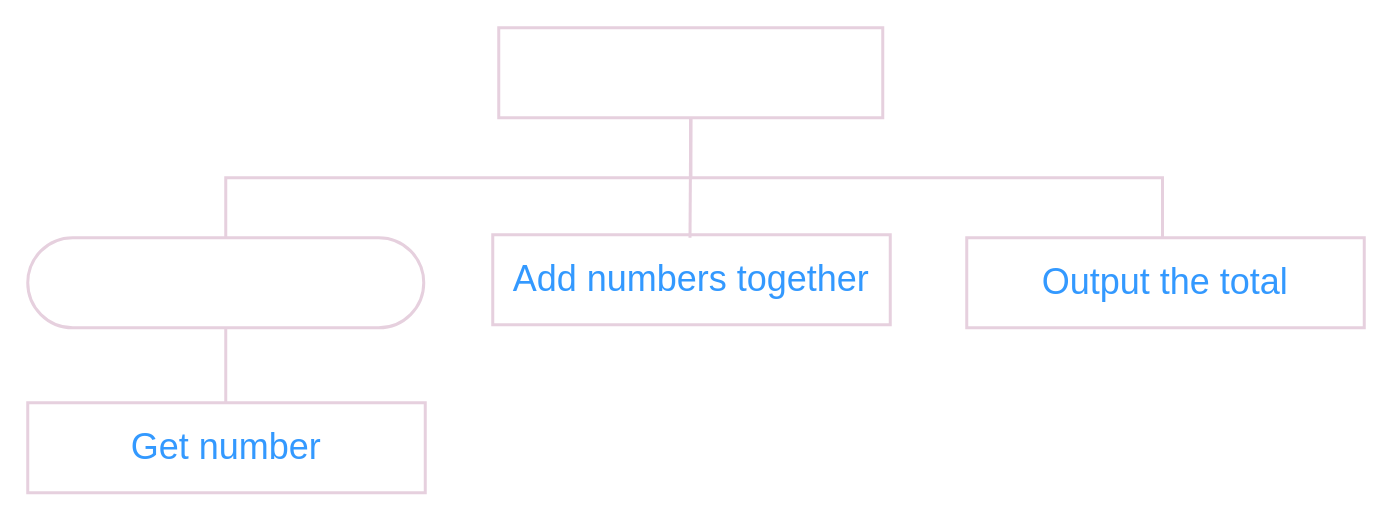
Image size: 1391x519. Some labels were removed from this diagram. The shapes that lost their labels are listed below. From the top down, each one's box as (x1, y1, x2, y2) in pixels, then its label:
(496, 26, 884, 118): Calculate Total
(26, 236, 424, 328): Repeat 5 Times
